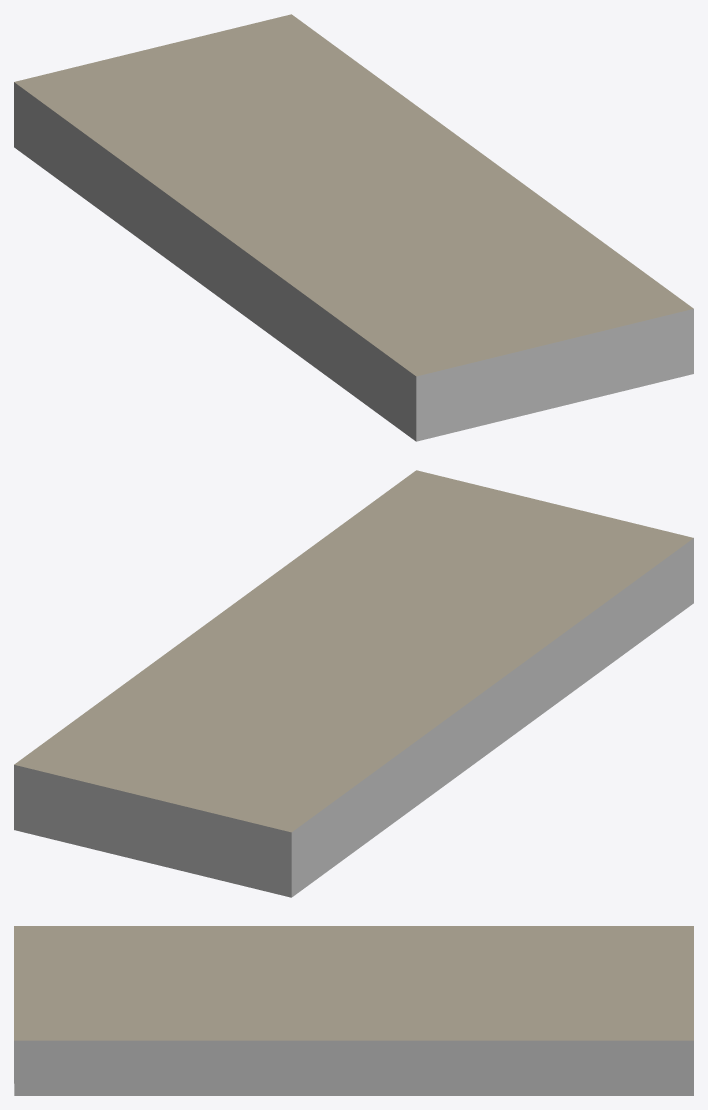
The model's file is POlice_station_Floor_type3.FBX.
3 views of the same model, one above another, from view 1: azimuth 30°, elevation 25°; view 2: azimuth 150°, elevation 25°; view 3: azimuth 270°, elevation 25° (orthographic). The views are drawn at different scales.
Visible parts, largest first — view 1: POlice_station_Floor_type3; view 2: POlice_station_Floor_type3; view 3: POlice_station_Floor_type3.
Part boxes in pixels (bbox=[...]): POlice_station_Floor_type3: bbox=[14, 14, 693, 441]; POlice_station_Floor_type3: bbox=[14, 470, 693, 897]; POlice_station_Floor_type3: bbox=[14, 926, 693, 1095].
Bounding box in the file's own units: 1491 × 335 × 3741.
Materials: 1 (1 with a texture image).
